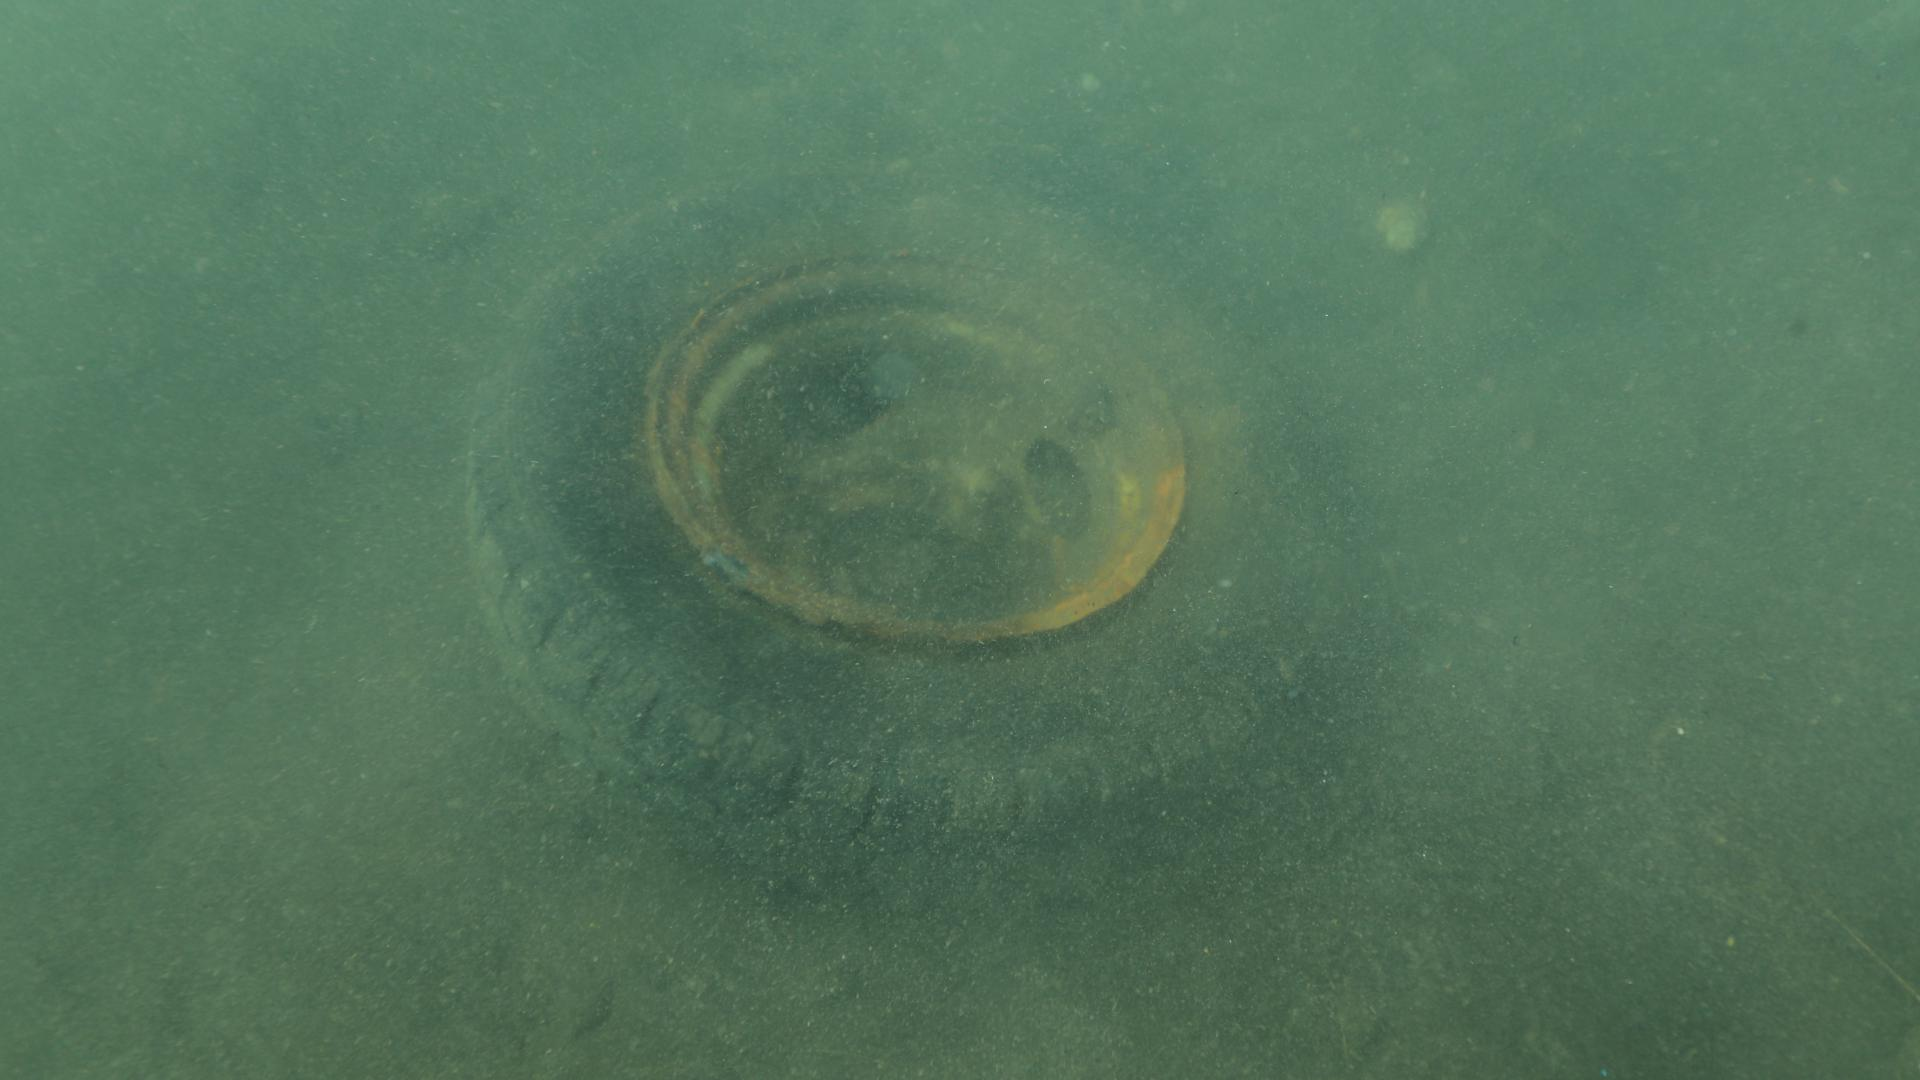tire: (458, 164, 1348, 903)
